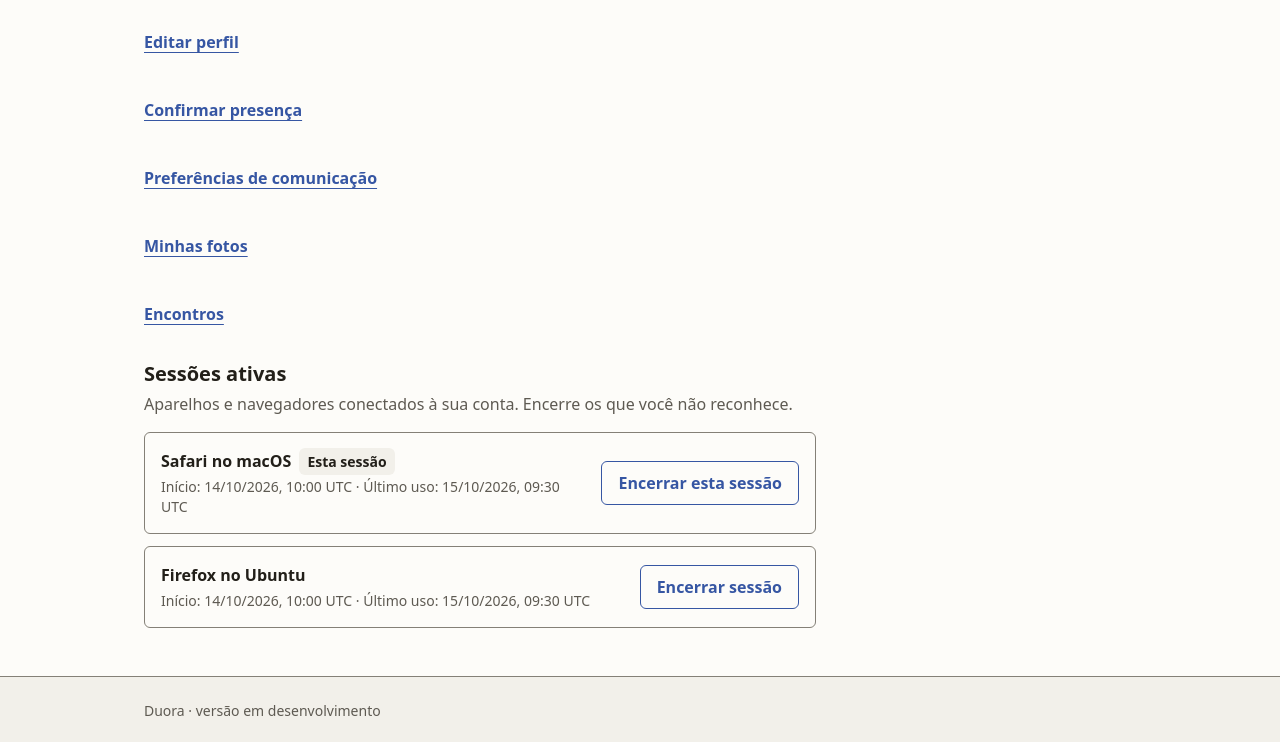
Test case: área da conta › 401 REAUTHENTICATION_REQUIRED numa escrita, com a sessão ainda válida, não tira a pessoa da conta
(page scrolled)
Expected: the text "Firefox no Ubuntu" is shown, top-left (161, 564), bottom-right (306, 586)
Step 1. Click the button with aria-label "Encerrar sessão: Firefox no Ubuntu" → (719, 587), box top-left (640, 565), bottom-right (799, 609)
(page scrolled)
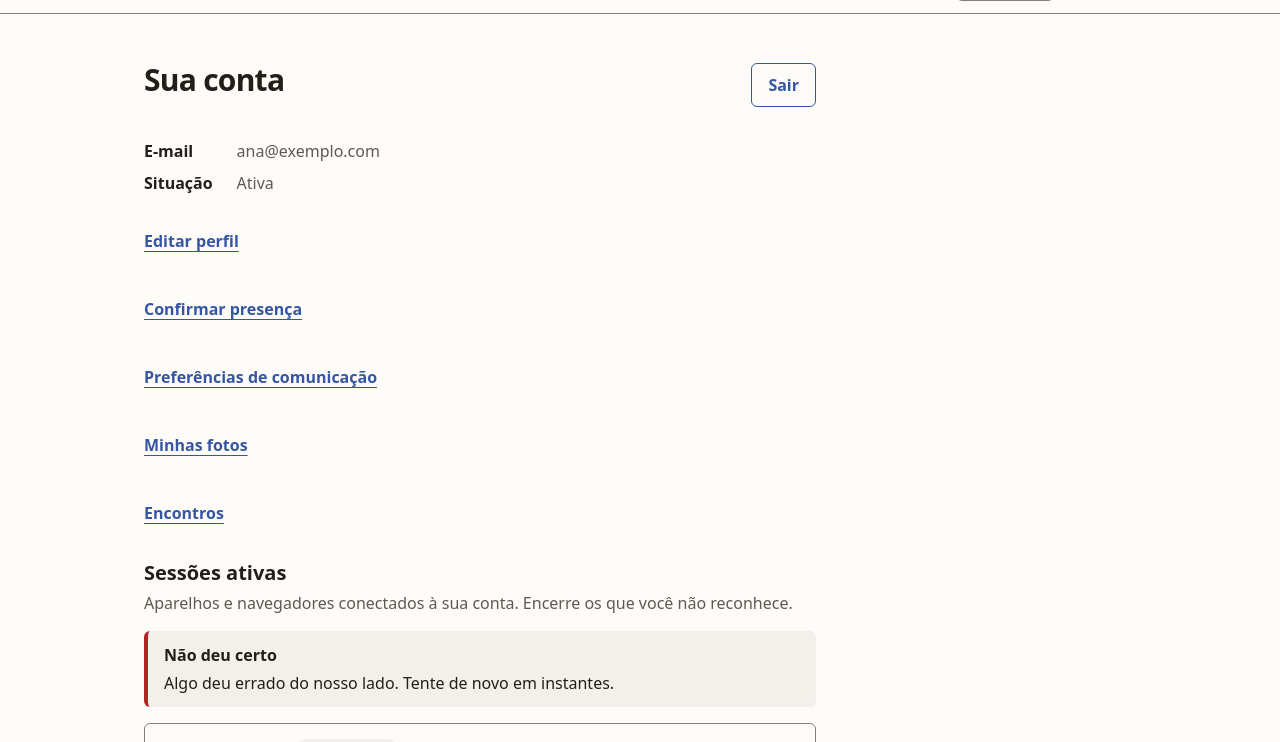
Expected: the heading "Sua conta" is shown, top-left (144, 62), bottom-right (284, 98)
Expected: the message "Não deu certo Algo deu errado do nosso lado. Tente de novo em instantes." is shown, top-left (144, 631), bottom-right (816, 707)
